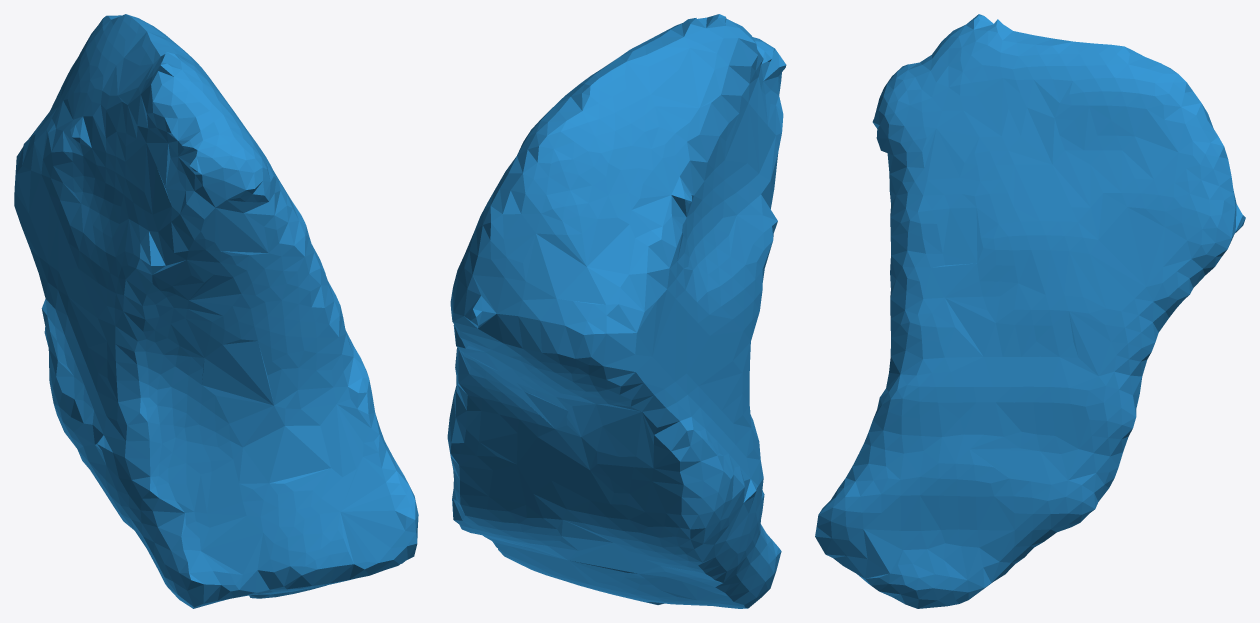
File: Model_85_RH__Auditory_cortex__rostrotemporal_lateral_area_(AuRTL).obj
3 views of the same model, side by side, from view 1: azimuth 30°, elevation 25°; view 2: azimuth 150°, elevation 25°; view 3: azimuth 270°, elevation 25° (orthographic). The views are drawn at different scales.
Bounding box in the file's own units: 1.48 × 3.03 × 2.27.
